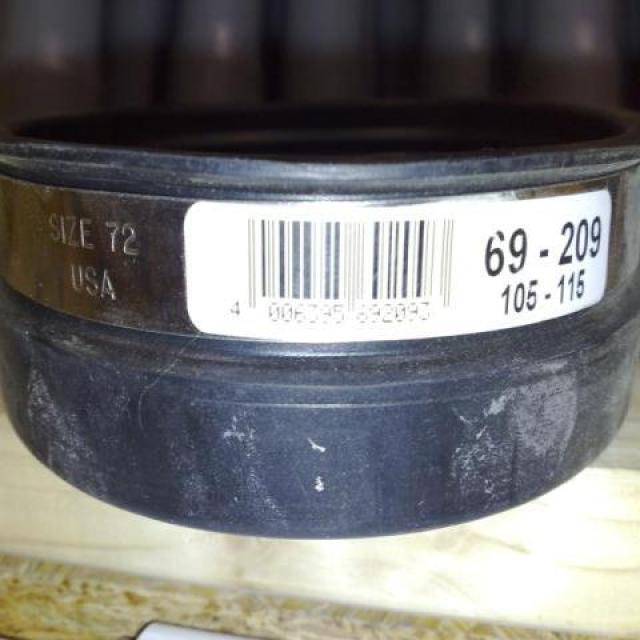Barcode: (221, 207, 474, 331)
